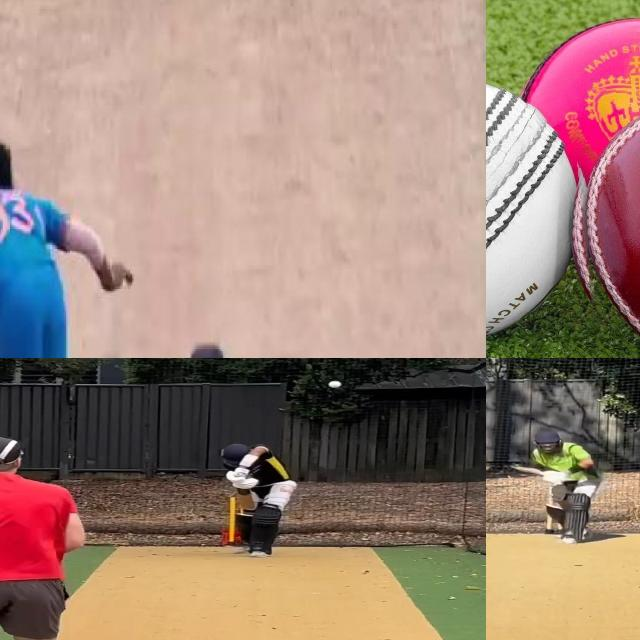Cricket ball: (486, 68, 576, 345), (568, 85, 640, 358), (560, 536, 577, 546), (328, 380, 342, 390)
